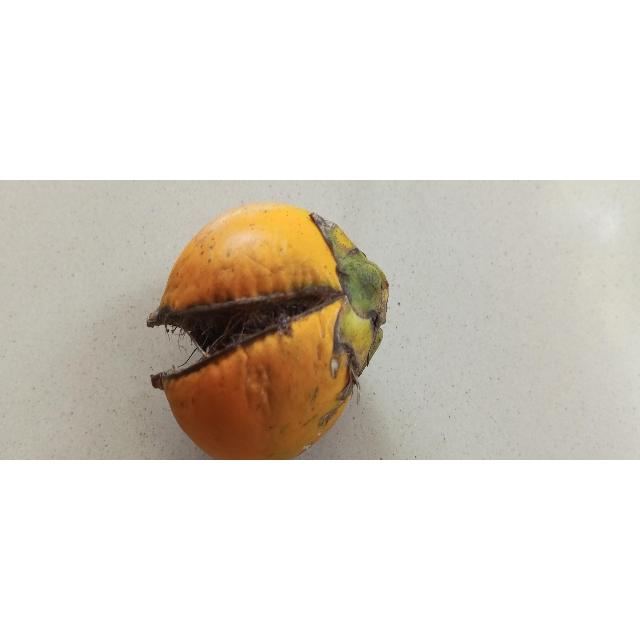damaged: (147, 203, 390, 461)
